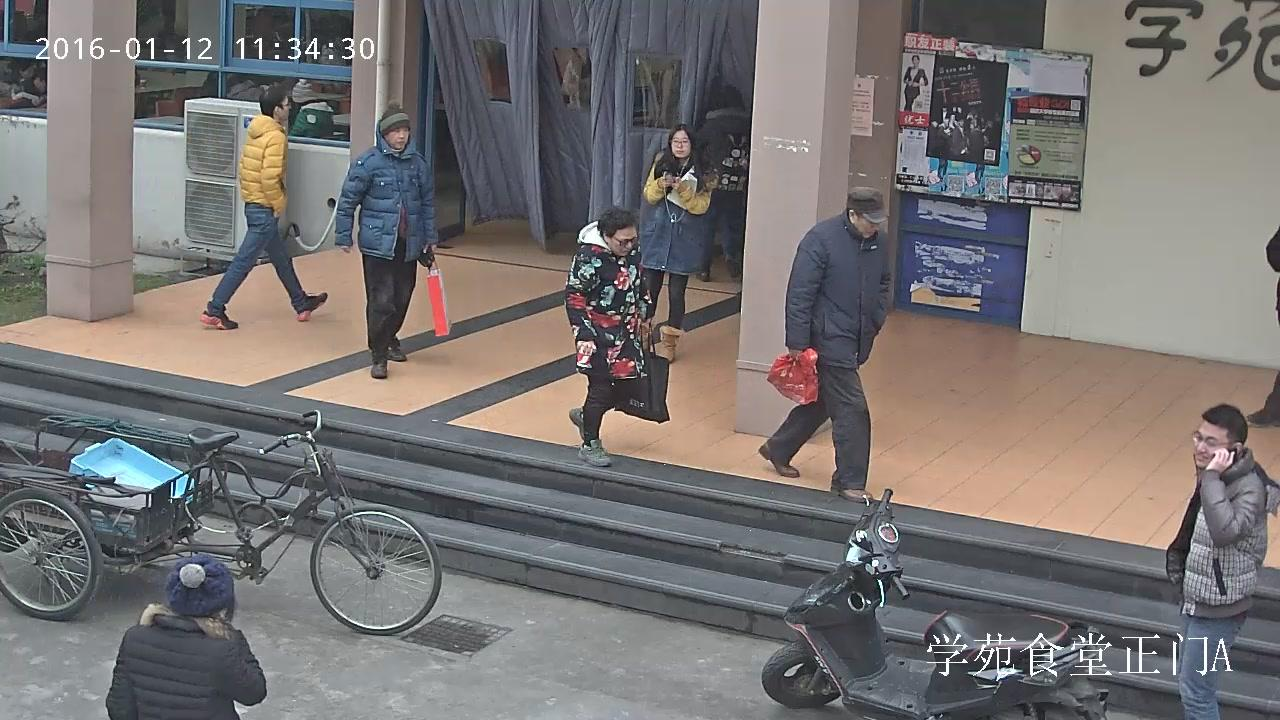person: (756, 186, 897, 502), (1165, 402, 1280, 720), (333, 99, 451, 379), (199, 85, 327, 331), (104, 552, 267, 720), (565, 208, 669, 467), (634, 122, 719, 366), (692, 83, 752, 282), (285, 79, 333, 142), (903, 52, 928, 113)
